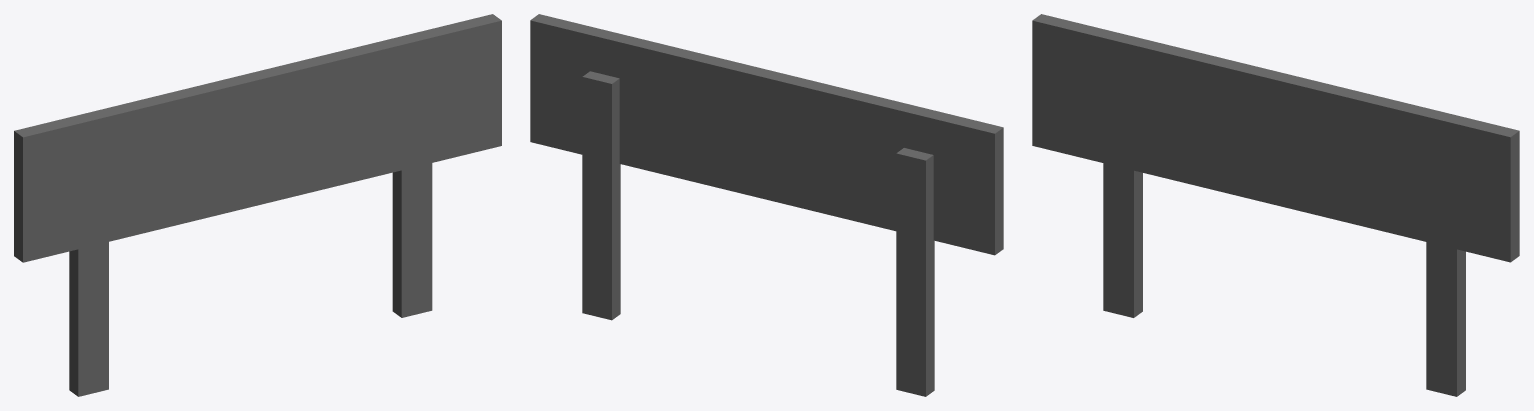
File: Cartel_pueblo.fbx
3 renders of one model, left to right at view 1: azimuth 30°, elevation 25°; view 2: azimuth 150°, elevation 25°; view 3: azimuth 330°, elevation 25°, orthographic. The views are drawn at different scales.
Parts seen in each view (by area): view 1: Cartel_pueblo; view 2: Cartel_pueblo; view 3: Cartel_pueblo.
Part boxes in pixels (bbox=[...]): Cartel_pueblo: bbox=[14, 14, 501, 396]; Cartel_pueblo: bbox=[530, 14, 1003, 396]; Cartel_pueblo: bbox=[1032, 14, 1519, 396].
Bounding box in the file's own units: 2.47 × 1.39 × 0.1515.
